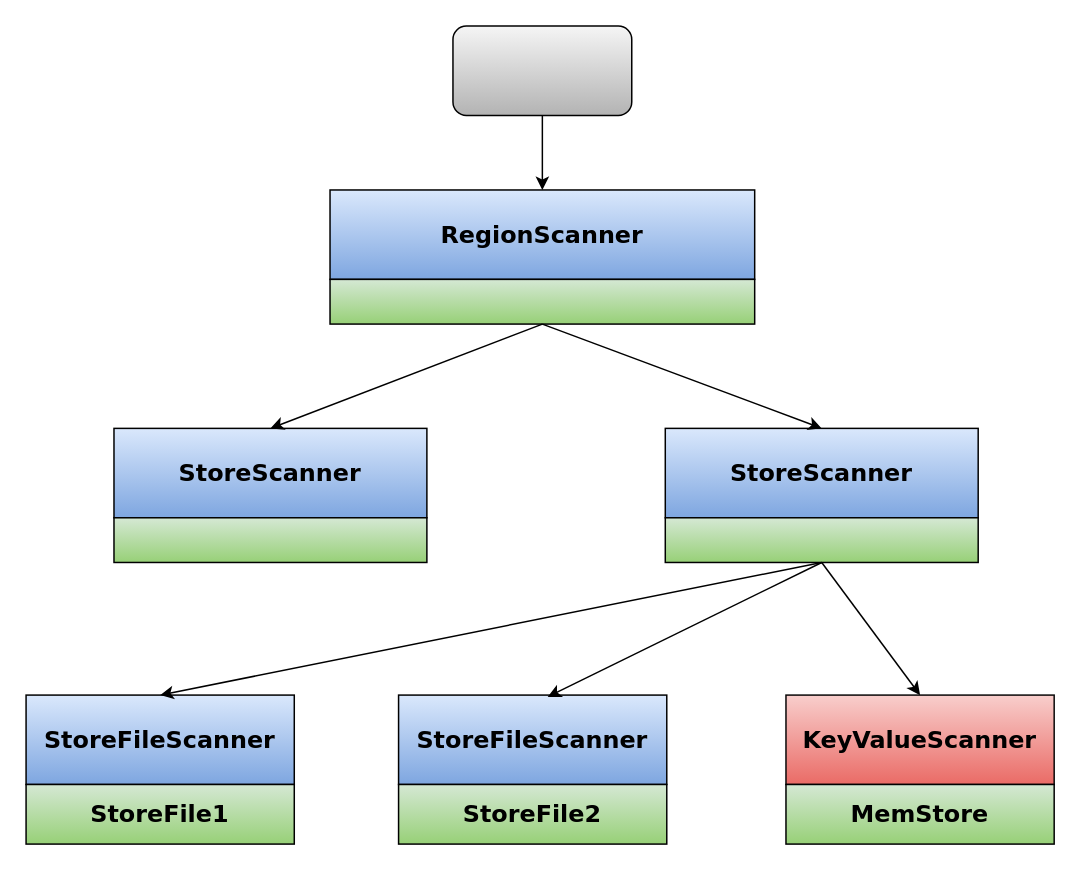
Image size: 1080x870. Some labels were removed from this diagram. The shapes that lost their labels are listed below. From the top down, each one's box as (x1, y1, x2, y2) in pixels, then its label:
(451, 25, 632, 115): Client
(329, 278, 755, 324): Region1
(112, 516, 427, 562): columnfamily1
(664, 516, 978, 562): columnfamily2
